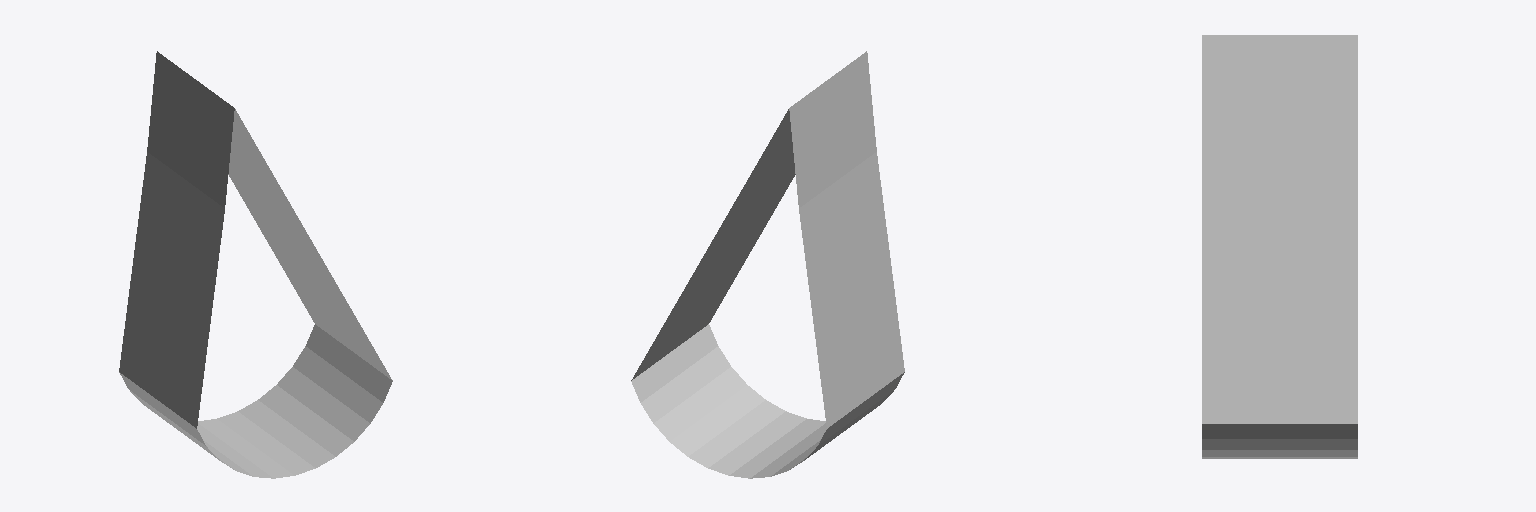
File: original-6.obj
3 renders of one model, left to right at view 1: azimuth 30°, elevation 25°; view 2: azimuth 150°, elevation 25°; view 3: azimuth 270°, elevation 25°, orthographic.
Visible parts, largest first — view 1: #ID73; view 2: #ID73; view 3: #ID73.
Part boxes in pixels (bbox=[...]): #ID73: bbox=[119, 51, 392, 478]; #ID73: bbox=[631, 51, 904, 478]; #ID73: bbox=[1202, 35, 1357, 458].
Bounding box in the file's own units: 0.0181 × 0.0338 × 0.0125.